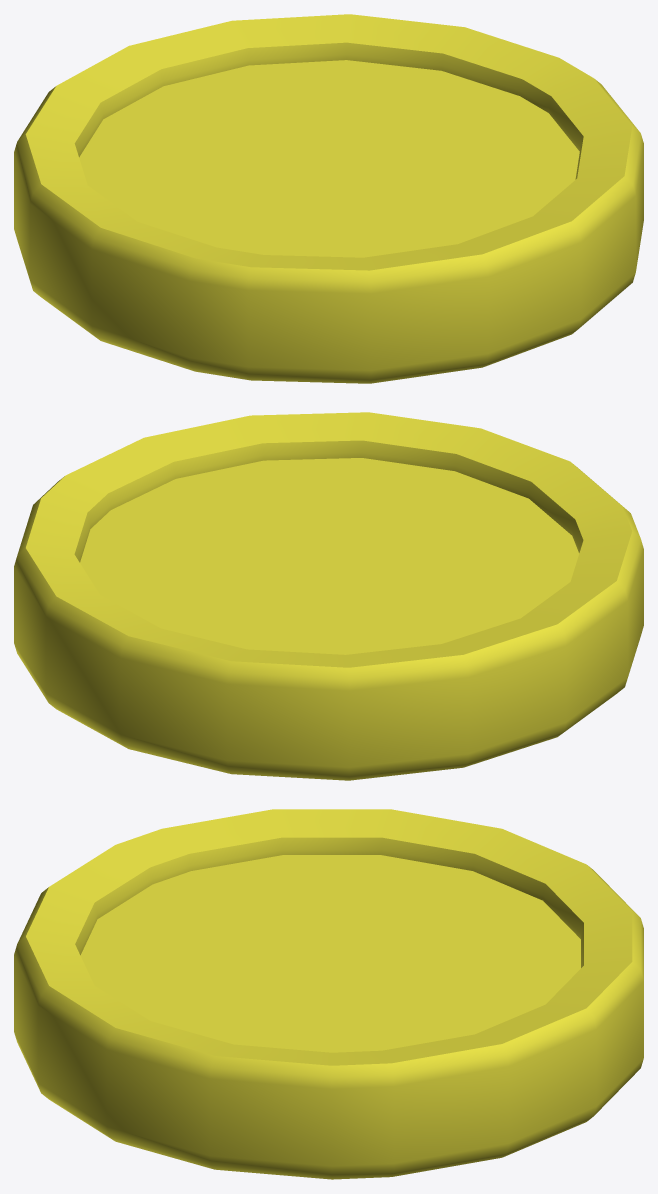
Rendered from coin.fbx.
3 views of the same model, one above another, from view 1: azimuth 30°, elevation 25°; view 2: azimuth 150°, elevation 25°; view 3: azimuth 270°, elevation 25° (orthographic).
Visible parts, largest first — view 1: mine.002; view 2: mine.002; view 3: mine.002.
Part boxes in pixels (bbox=[...]): mine.002: bbox=[14, 14, 643, 383]; mine.002: bbox=[14, 412, 643, 780]; mine.002: bbox=[14, 809, 643, 1179].
Bounding box in the file's own units: 382 × 76.03 × 382.
